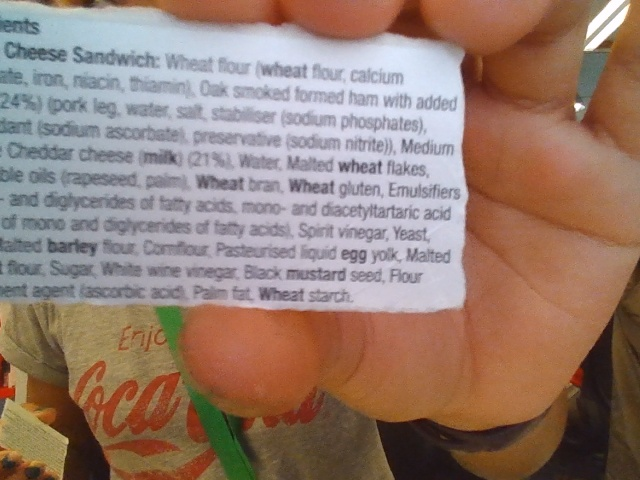milk: (140, 149, 181, 168)
